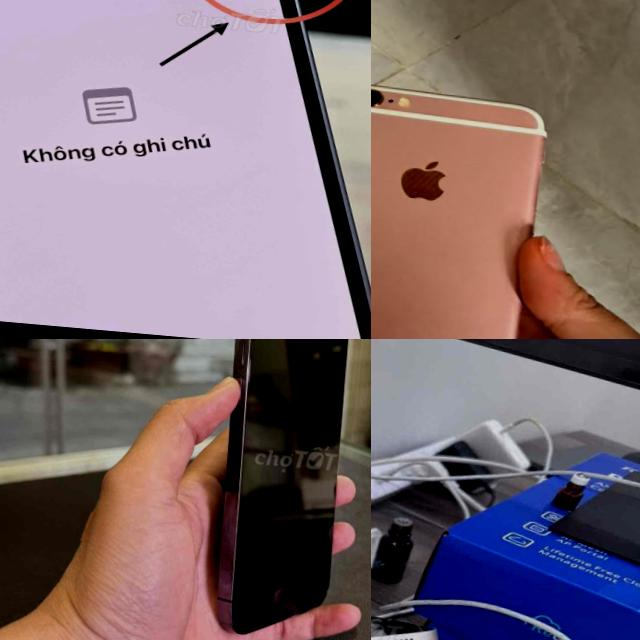gen_12_13: (0, 0, 371, 339), (371, 586, 453, 640)
gen_14: (192, 339, 368, 640)
gen_6: (371, 77, 550, 339)
